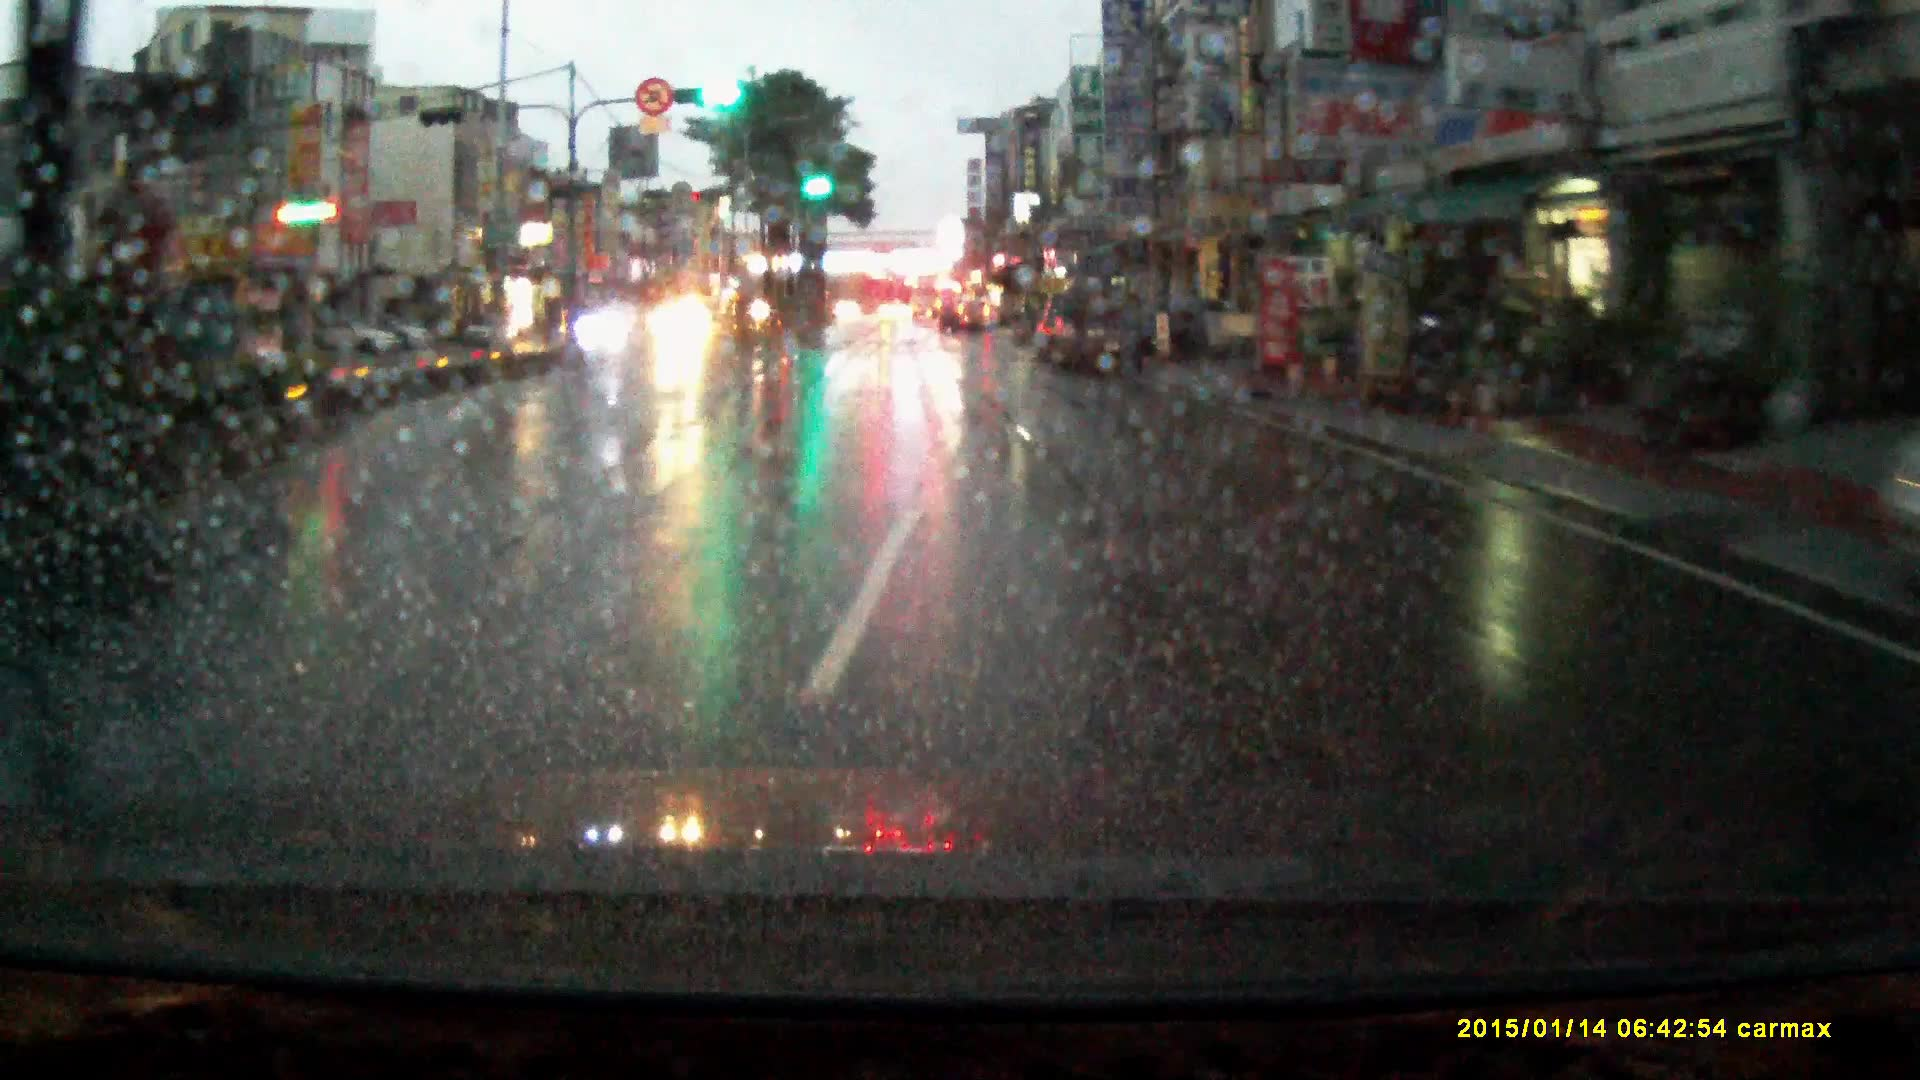vehicle: (1052, 282, 1151, 378), (650, 298, 721, 349), (314, 316, 398, 357), (575, 303, 637, 355), (1199, 311, 1263, 351), (1033, 293, 1064, 367), (939, 295, 993, 338), (464, 313, 522, 349), (382, 324, 434, 355), (910, 274, 944, 318), (878, 305, 913, 324)
